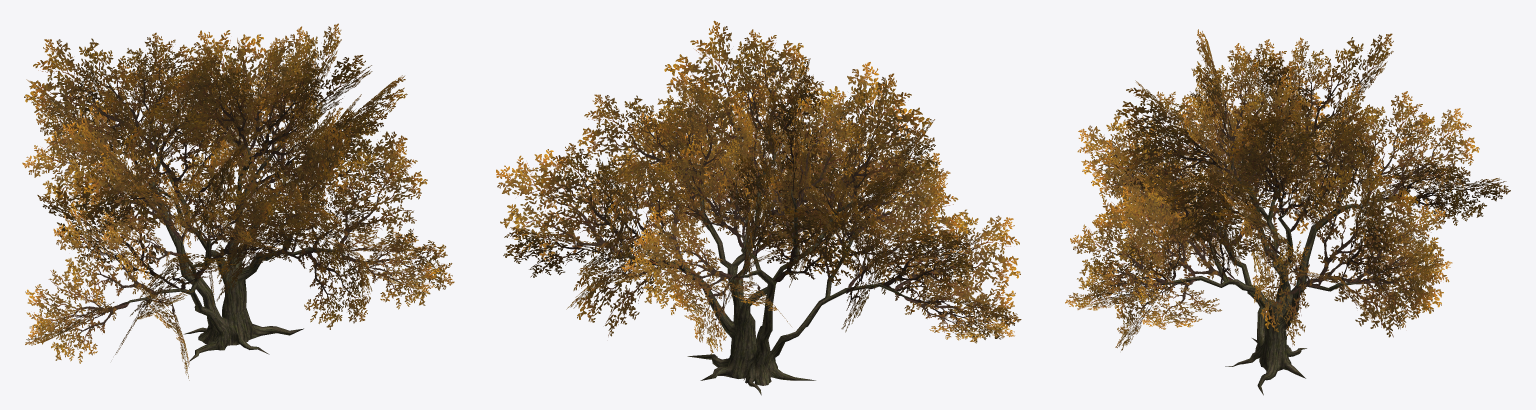
Rendered from cmc_shu04.FBX.
The picture shows the model from 3 angles, left to right: view 1: azimuth 30°, elevation 25°; view 2: azimuth 150°, elevation 25°; view 3: azimuth 270°, elevation 25°; orthographic projection. The views are drawn at different scales.
Parts seen in each view (by area): view 1: cmc_shuye_b001, cmc_shugan_b001; view 2: cmc_shuye_b001, cmc_shugan_b001; view 3: cmc_shuye_b001, cmc_shugan_b001.
Boxes of the visible parts, x1=… form: cmc_shuye_b001: x1=22, y1=23, x2=454, y2=380; cmc_shugan_b001: x1=117, y1=135, x2=352, y2=361; cmc_shuye_b001: x1=496, y1=20, x2=1021, y2=354; cmc_shugan_b001: x1=610, y1=147, x2=912, y2=395; cmc_shuye_b001: x1=1065, y1=29, x2=1510, y2=350; cmc_shugan_b001: x1=1157, y1=130, x2=1384, y2=395.
Size of the model in its own units: 2403 by 1638 by 2159.
